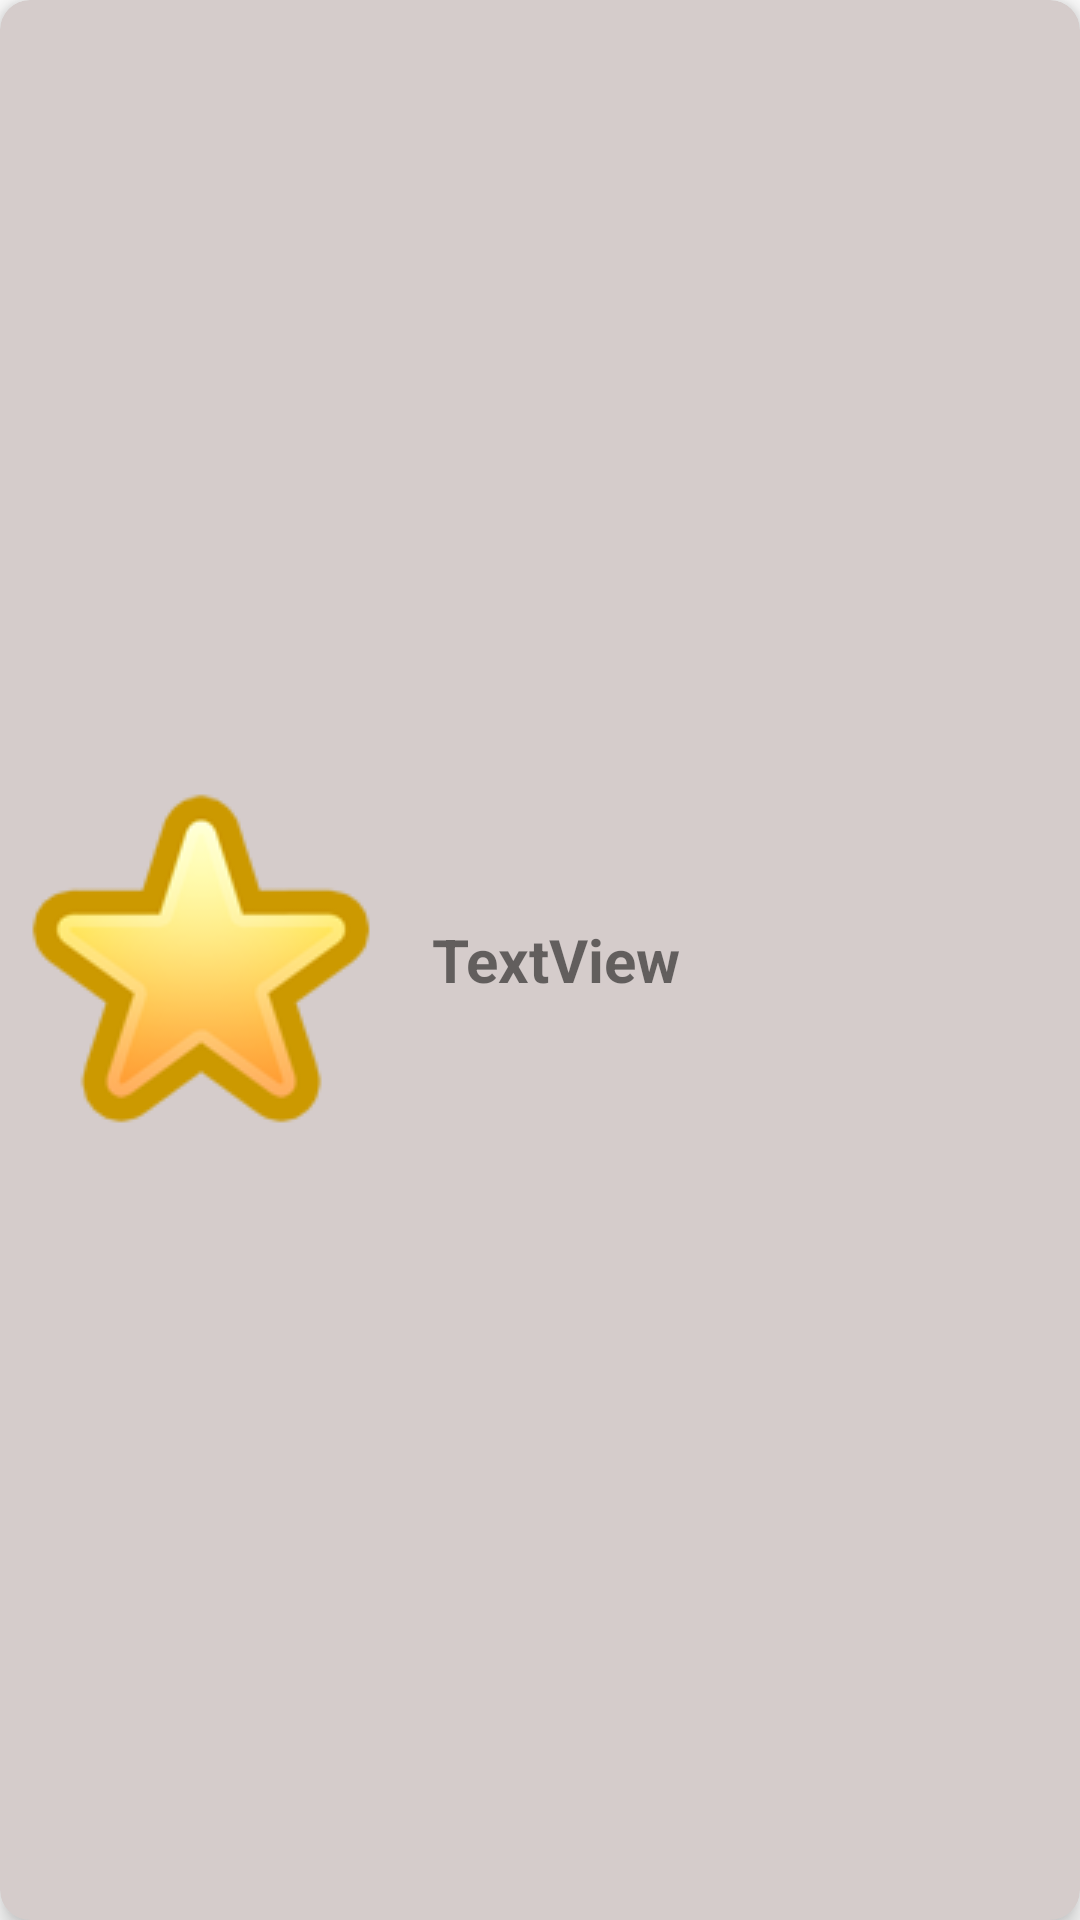

Screen size 1080px×1920px. Icon name, then its center in pixels as (x,y):
favorite: (201,958)
